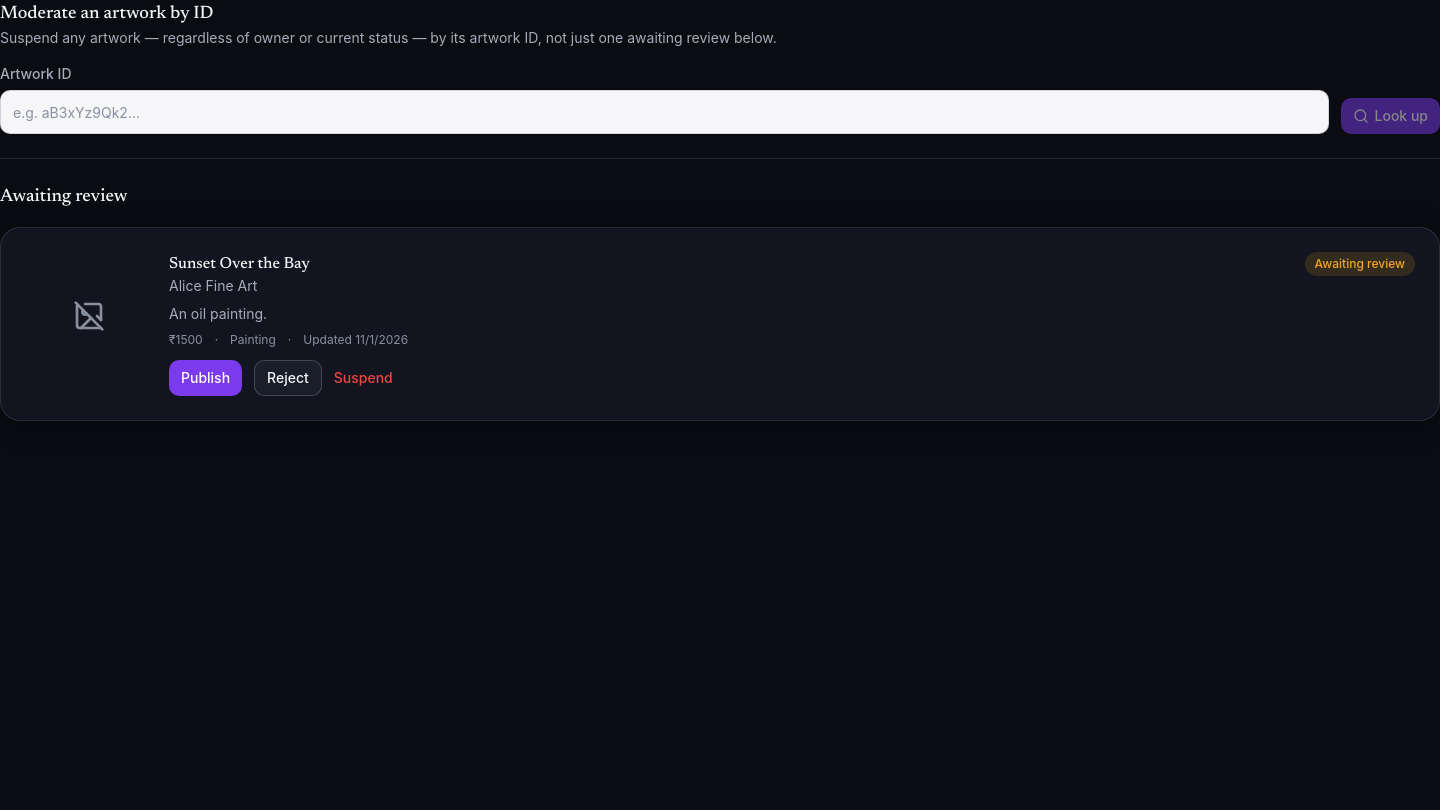
Test case: ArtworkModerationQueue — suspend (admin moderation override) › requires a reason, then sends it to suspendArtwork, and the artwork leaves the queue on success
Click the button "Suspend": (363, 378) [334, 368, 393, 388]
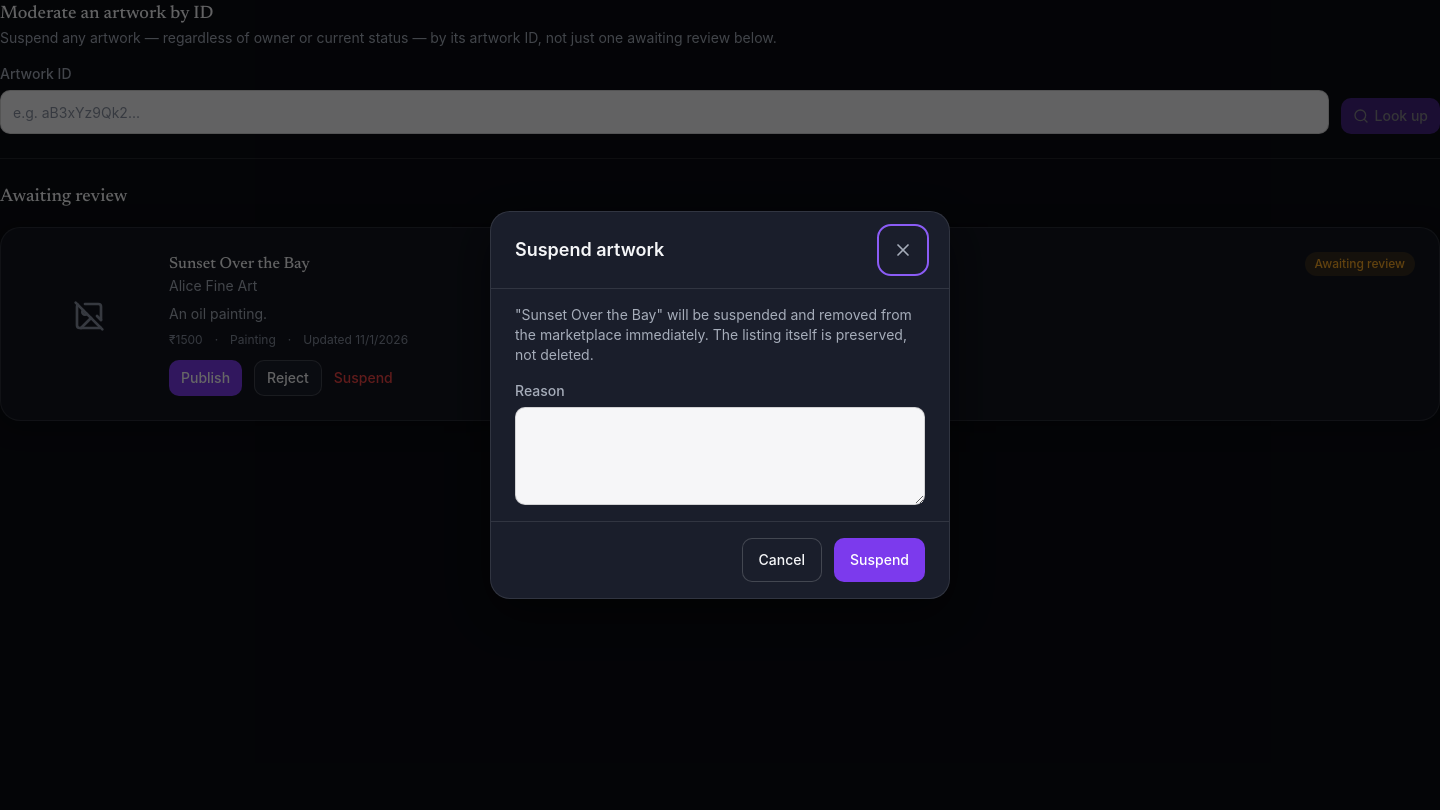
Click the button "Suspend": (880, 560) [834, 538, 925, 582]
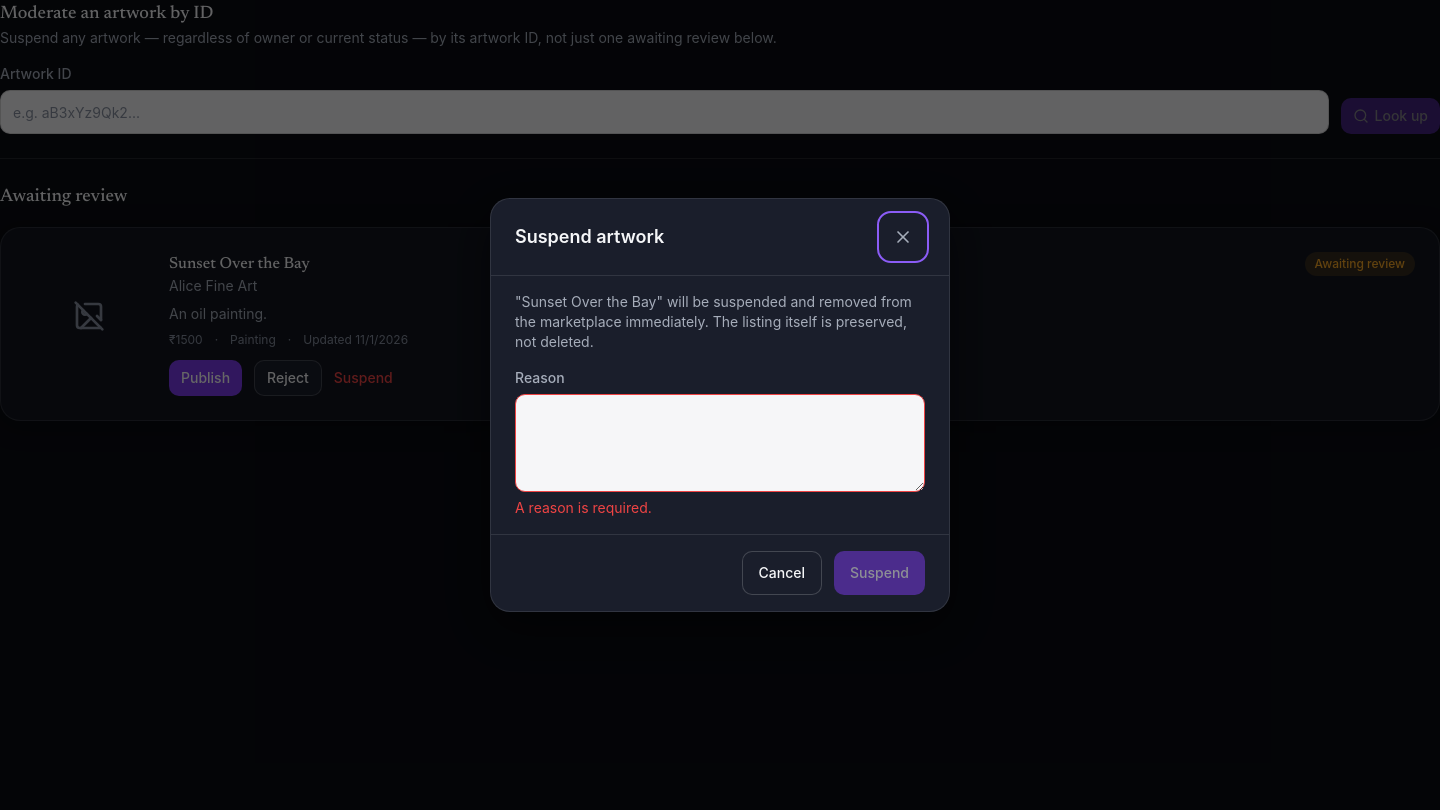
Now the message shows "reason is required", box [515, 499, 652, 516]
In the text box labelled "Reason": (720, 443) [515, 394, 925, 492], type "Reported for a policy violation."
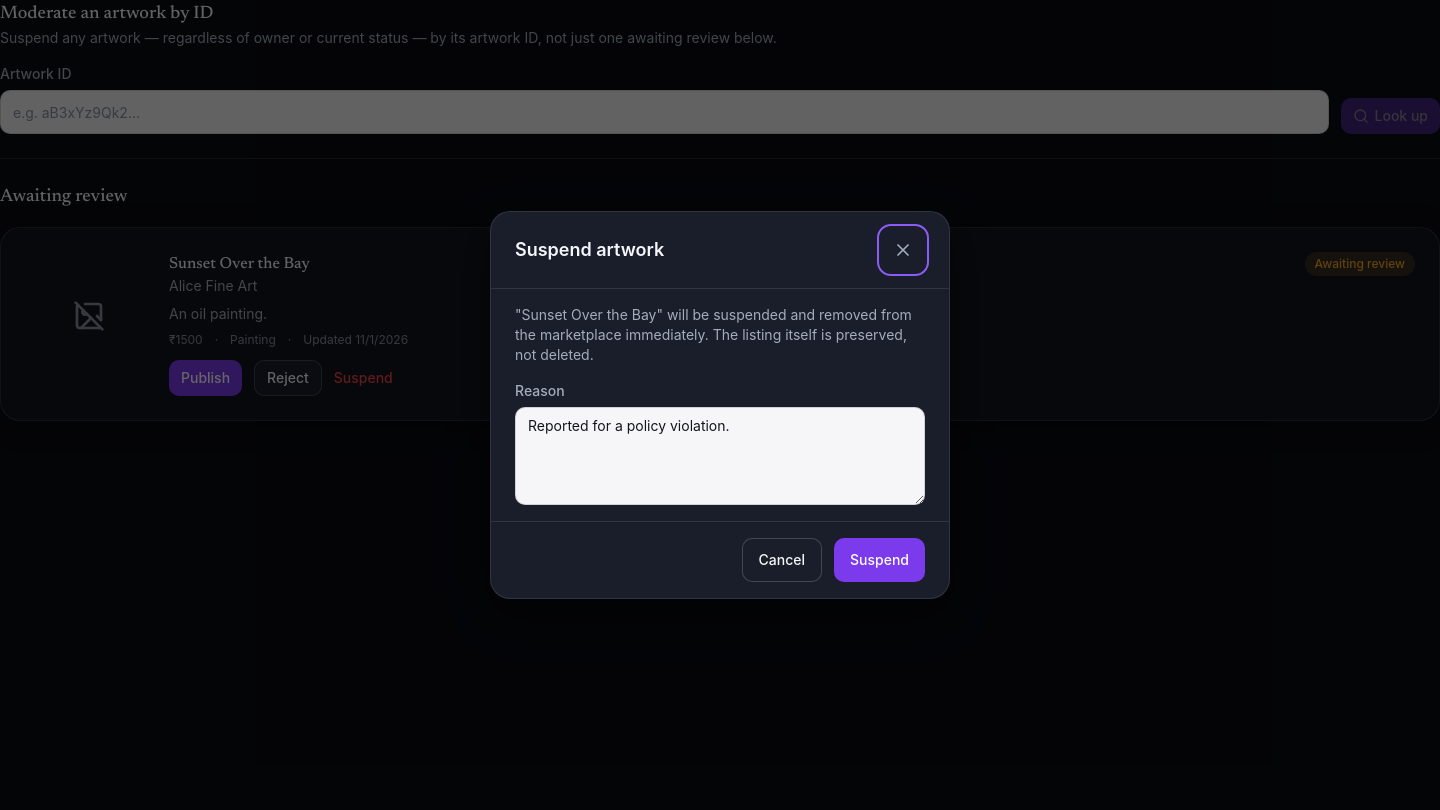
Click the button "Suspend": (880, 560) [834, 538, 925, 582]
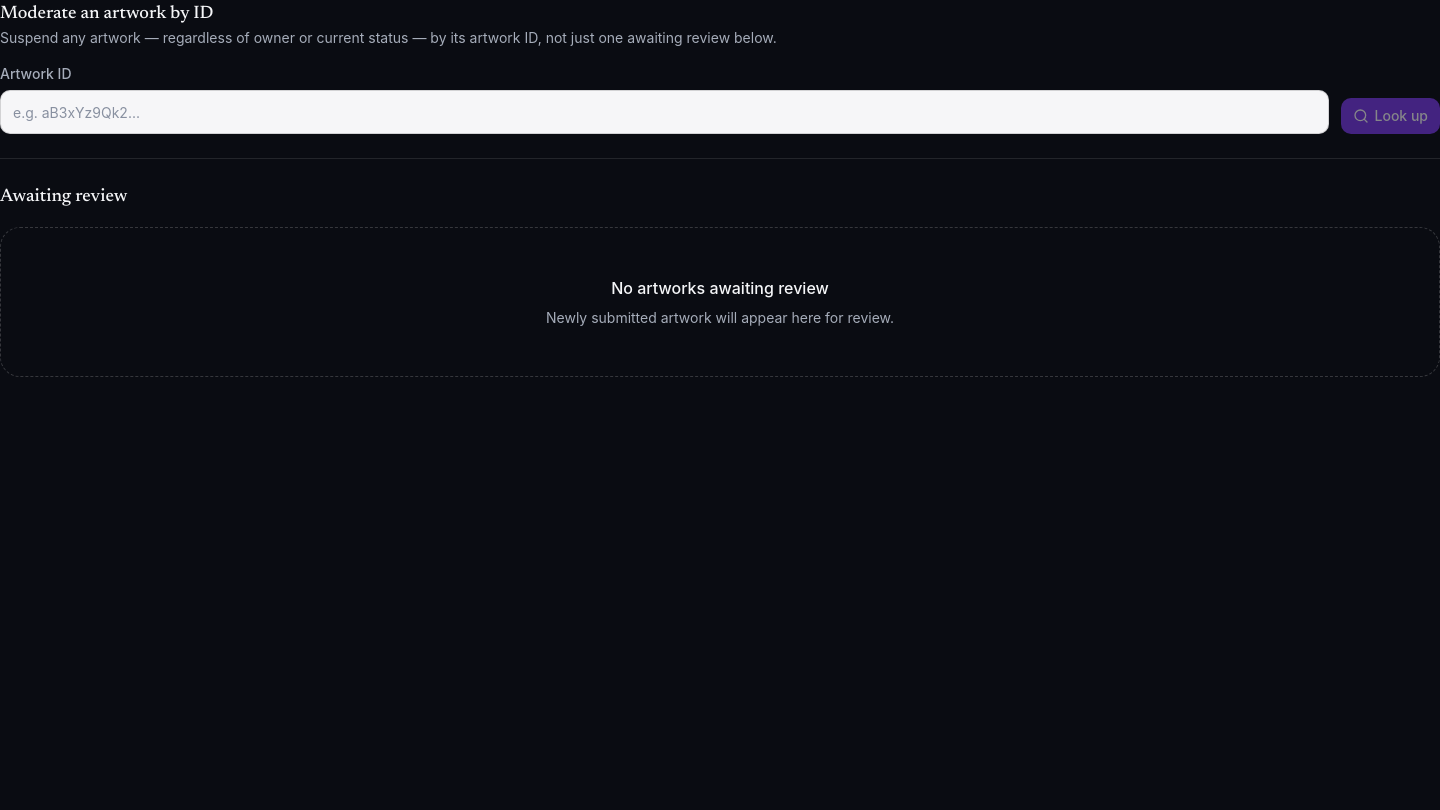
Now the text "No artworks awaiting review" is shown, box [611, 276, 829, 300]
